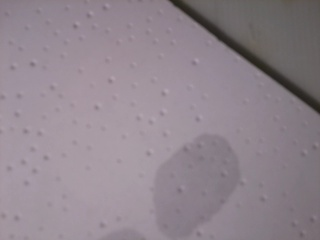Water_detected: (95, 153, 211, 240)
